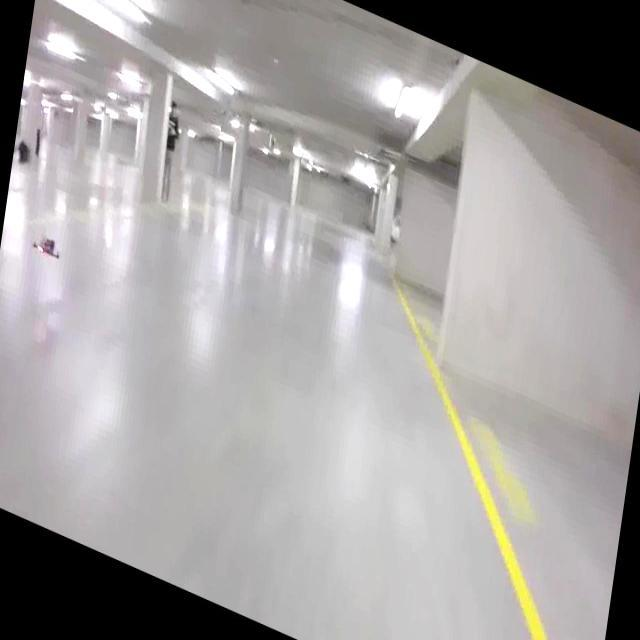drone: (28, 221, 68, 272)
